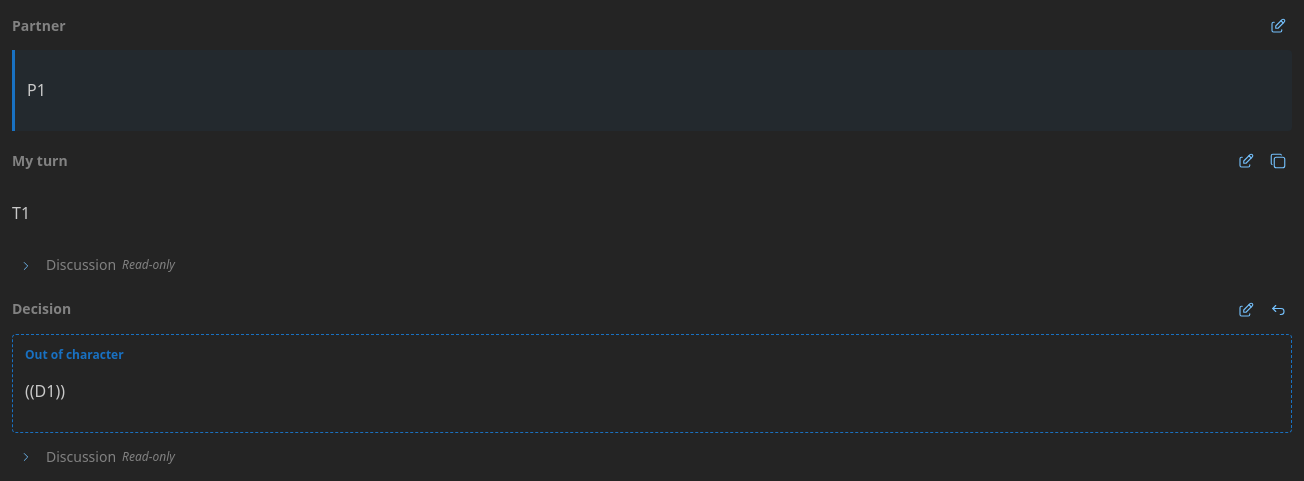
Test: StreamRecord actions — in-place edit of a settled entry (D10) › blurring with the text unchanged makes no request, closes the editor and shows the stored text — DoD-6
Click the button named "Edit entry" in the row of "My turn" at (1246, 161), box [1232, 147, 1260, 175]
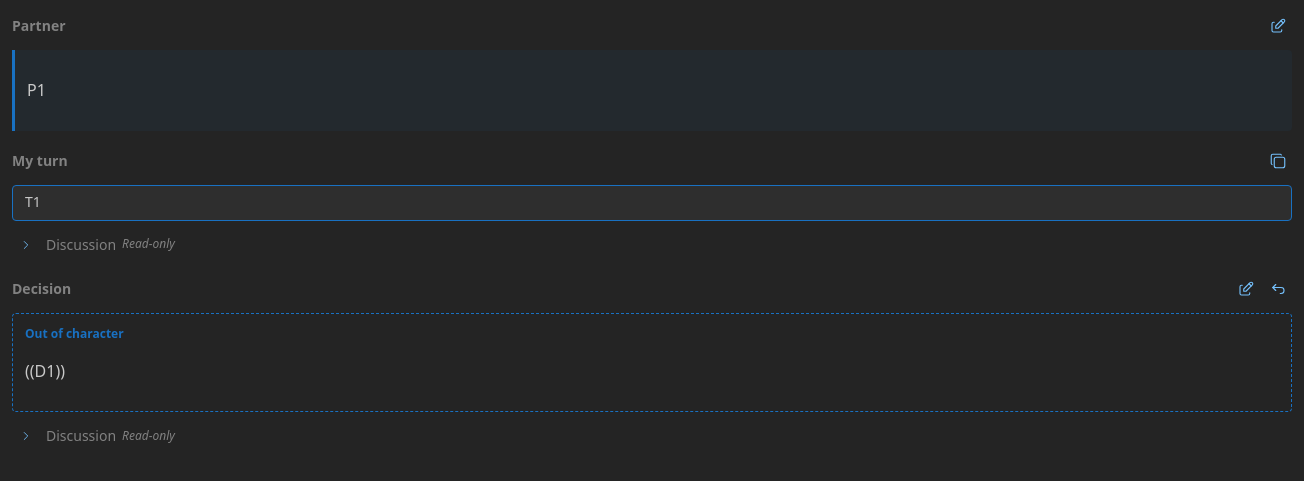
Leave the text box named "Edit entry text", box [12, 185, 1292, 221]
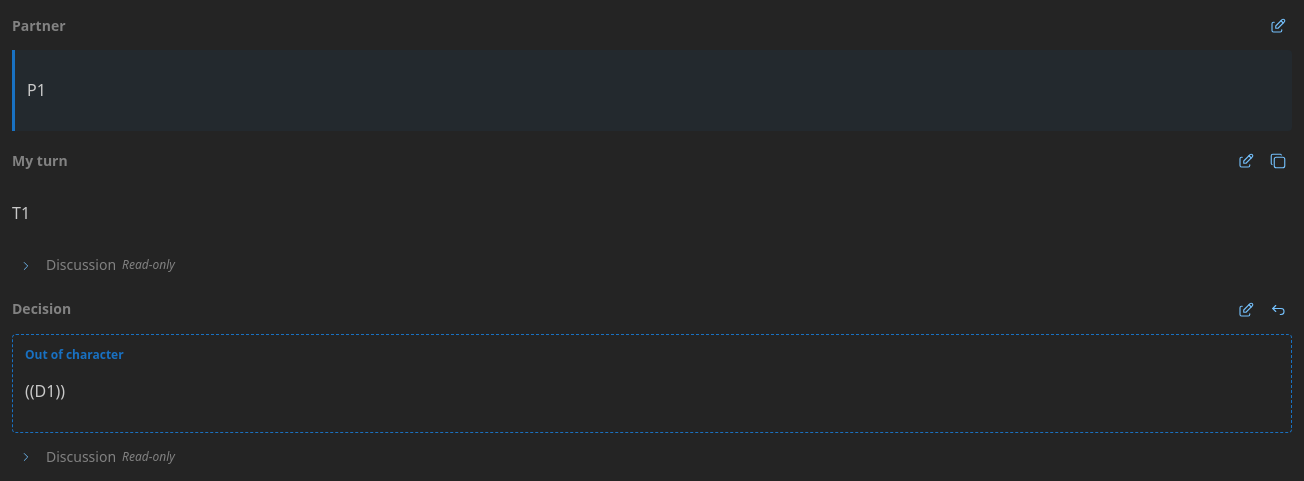
Expected: the list item "My turn T1 Discussion Read-only" is shown, [12, 147, 1292, 280]
